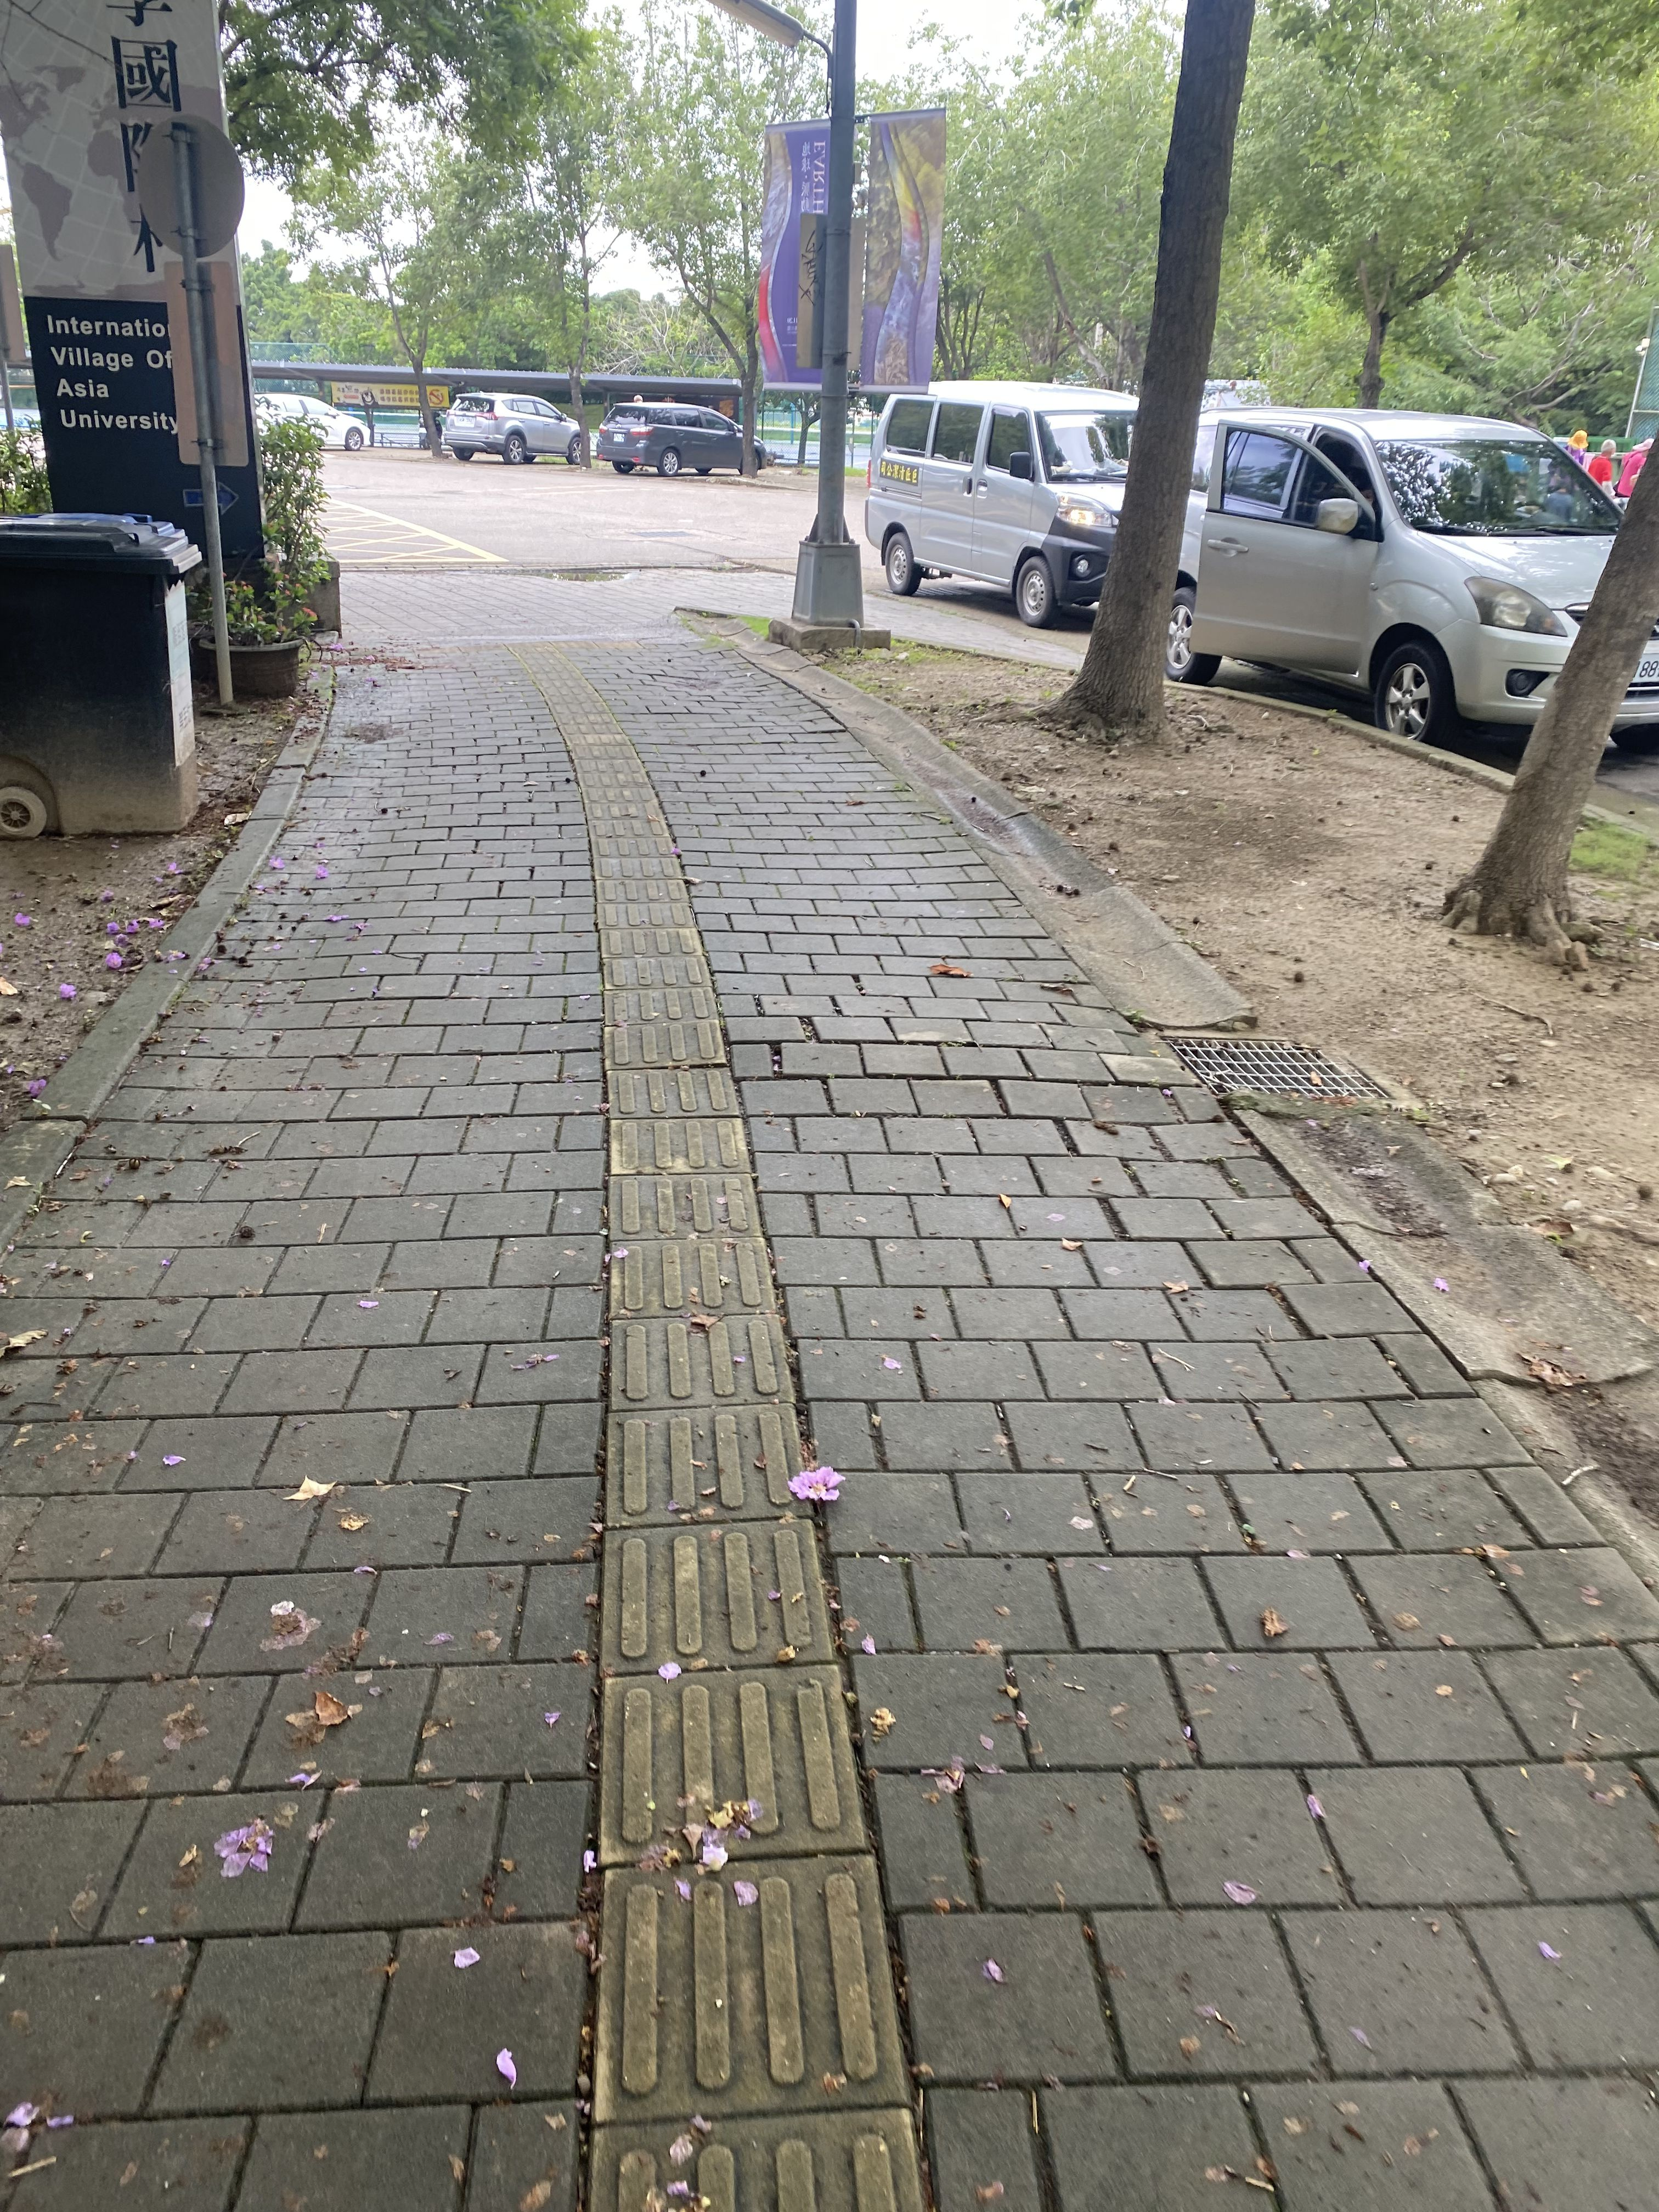sidewalk: (0, 538, 1659, 2212)
